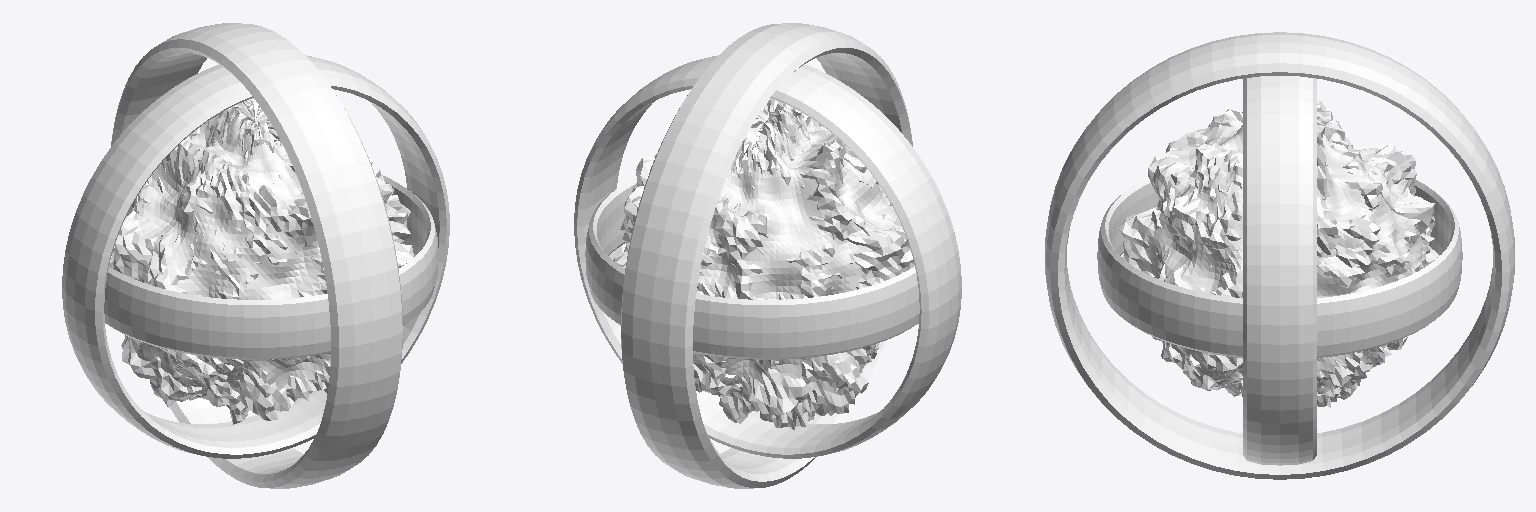
Rendered from Boss_3.obj.
3 views of the same model, side by side, from view 1: azimuth 30°, elevation 25°; view 2: azimuth 150°, elevation 25°; view 3: azimuth 270°, elevation 25° (orthographic).
Parts seen in each view (by area): view 1: Barrier.001, Barrier.002, Energy.001, Energy, Barrier; view 2: Barrier.001, Barrier.002, Energy.001, Energy, Barrier; view 3: Barrier.001, Barrier.002, Energy.001, Barrier, Energy.
Boxes of the visible parts, x1,y1,x2,y2 form: Barrier.001: [111, 23, 402, 488]; Barrier.002: [62, 55, 449, 458]; Energy.001: [109, 98, 413, 424]; Energy: [114, 104, 400, 399]; Barrier: [104, 175, 438, 359]; Barrier.001: [621, 23, 912, 488]; Barrier.002: [574, 55, 961, 458]; Energy.001: [613, 98, 914, 429]; Energy: [627, 109, 902, 402]; Barrier: [585, 177, 919, 359]; Barrier.001: [1045, 32, 1514, 479]; Barrier.002: [1243, 76, 1316, 465]; Energy.001: [1118, 100, 1437, 407]; Barrier: [1097, 177, 1462, 357]; Energy: [1137, 119, 1424, 399].
Bounding box in the file's own units: 2.93 × 3.28 × 3.28.